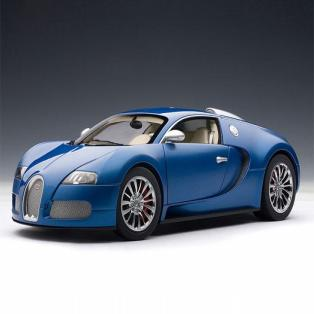Auto: (12, 107, 300, 239)
